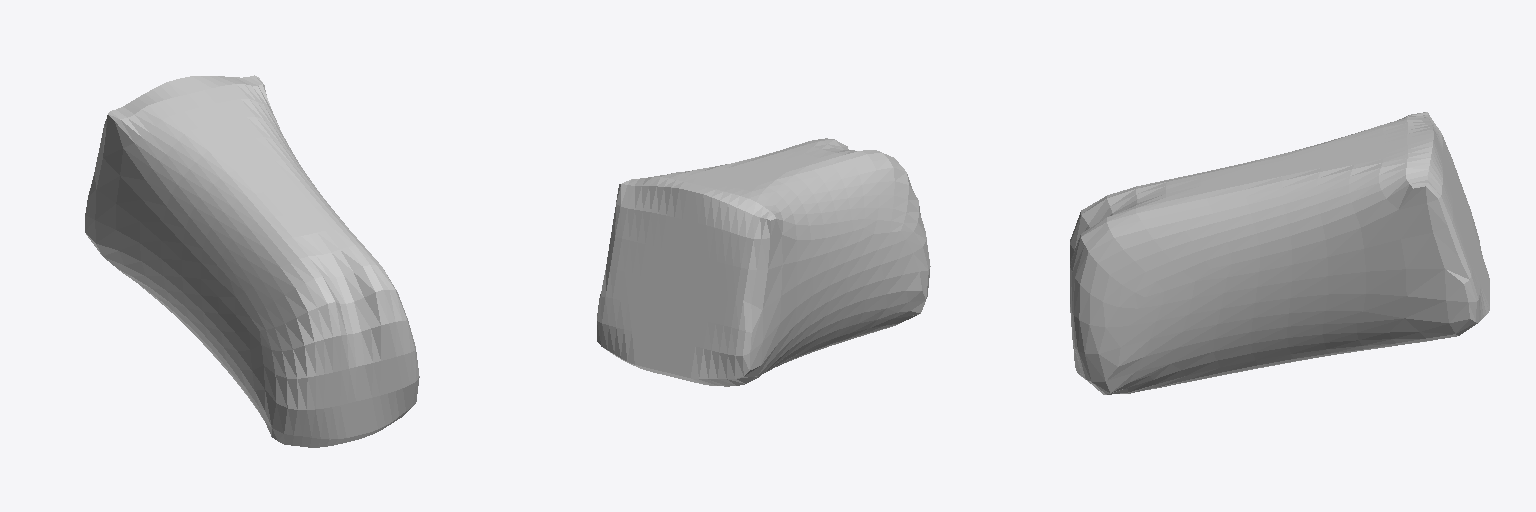
The model's file is vertabrae32.obj.
3 renders of one model, left to right at view 1: azimuth 30°, elevation 25°; view 2: azimuth 150°, elevation 25°; view 3: azimuth 270°, elevation 25°, orthographic.
Visible parts, largest first — view 1: Cube.113_Cube.097; view 2: Cube.113_Cube.097; view 3: Cube.113_Cube.097.
Boxes of the visible parts, x1=… form: Cube.113_Cube.097: x1=85, y1=75, x2=419, y2=447; Cube.113_Cube.097: x1=597, y1=138, x2=930, y2=386; Cube.113_Cube.097: x1=1070, y1=112, x2=1489, y2=394.
Size of the model in its own units: 0.0429 by 0.0638 by 0.1006.